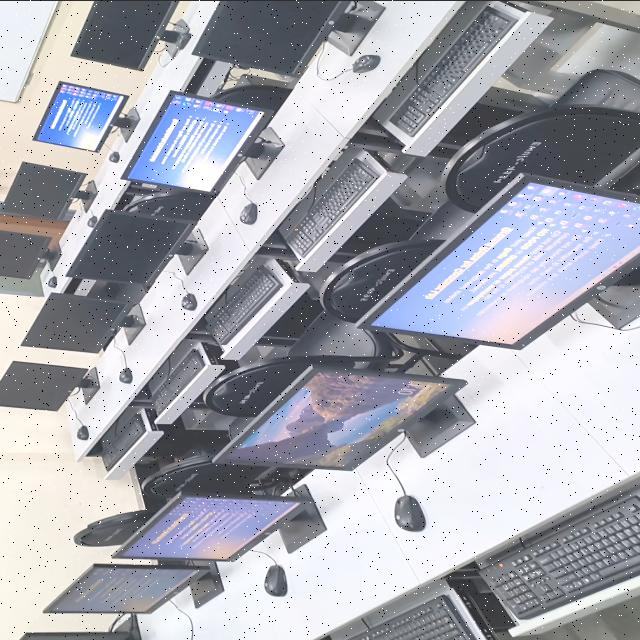Chair: (444, 68, 640, 211), (204, 309, 460, 417), (320, 238, 443, 322), (143, 444, 266, 497), (74, 509, 155, 546), (125, 190, 214, 220), (212, 84, 291, 111)
Keyboard: (379, 0, 527, 136), (480, 494, 640, 619), (286, 158, 379, 255), (207, 260, 282, 343), (344, 594, 478, 640), (102, 406, 163, 479), (153, 348, 205, 412)
Monitor: (358, 173, 640, 348), (219, 366, 449, 466), (122, 90, 266, 191), (120, 490, 303, 560), (193, 0, 349, 75), (67, 209, 195, 283), (44, 563, 211, 612), (71, 0, 178, 70), (32, 80, 129, 151), (21, 292, 135, 352), (1, 161, 87, 219), (0, 361, 87, 410), (0, 229, 51, 279), (18, 630, 132, 640)
Mouse: (395, 494, 426, 531), (264, 563, 287, 596), (352, 54, 380, 72), (239, 201, 257, 223), (181, 292, 197, 310), (119, 367, 132, 383), (76, 425, 88, 439), (108, 151, 119, 162), (87, 215, 97, 227), (48, 276, 57, 287)
